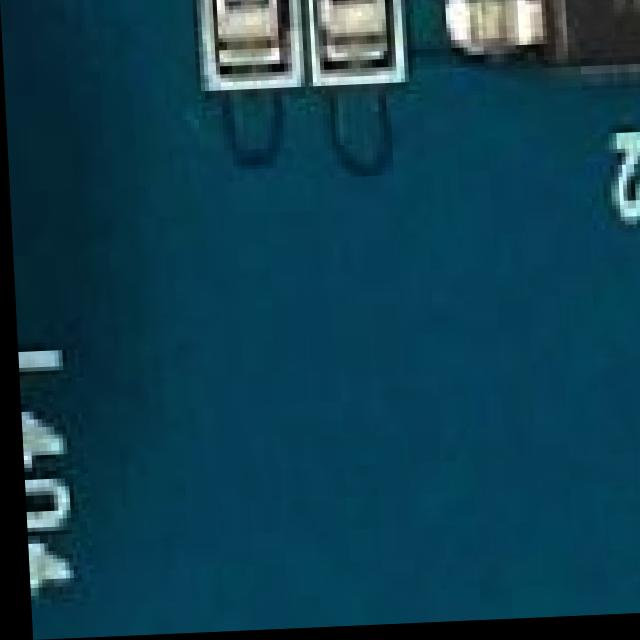IC: (468, 0, 640, 112)
resistor: (220, 0, 287, 64), (328, 0, 387, 53)
